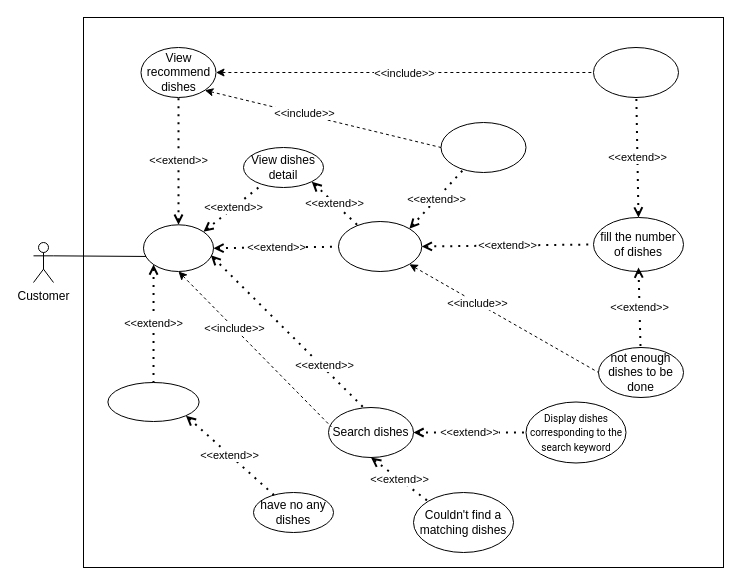
This 741x585 diagram has some shape labels left out. The shapes that lost their labels are listed below. From the top down, each one's centre as x and y in pixels, then its label:
At [635,72]: "completed".
At [483,147]: "don't have any dishes".
At [178,248]: "View menu".
At [380,246]: "Add dishes to cart".
At [153,402]: "View dishes from cart".
